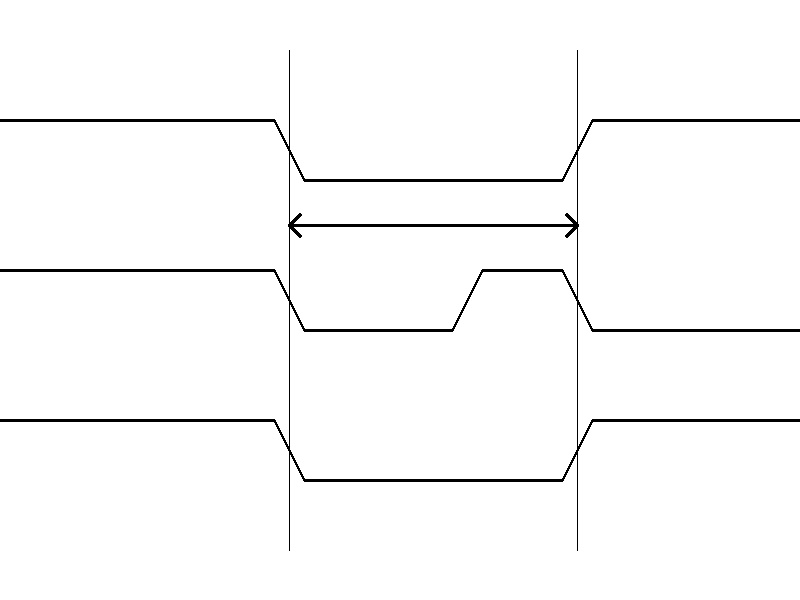double_arrow: (289, 210, 577, 240)
